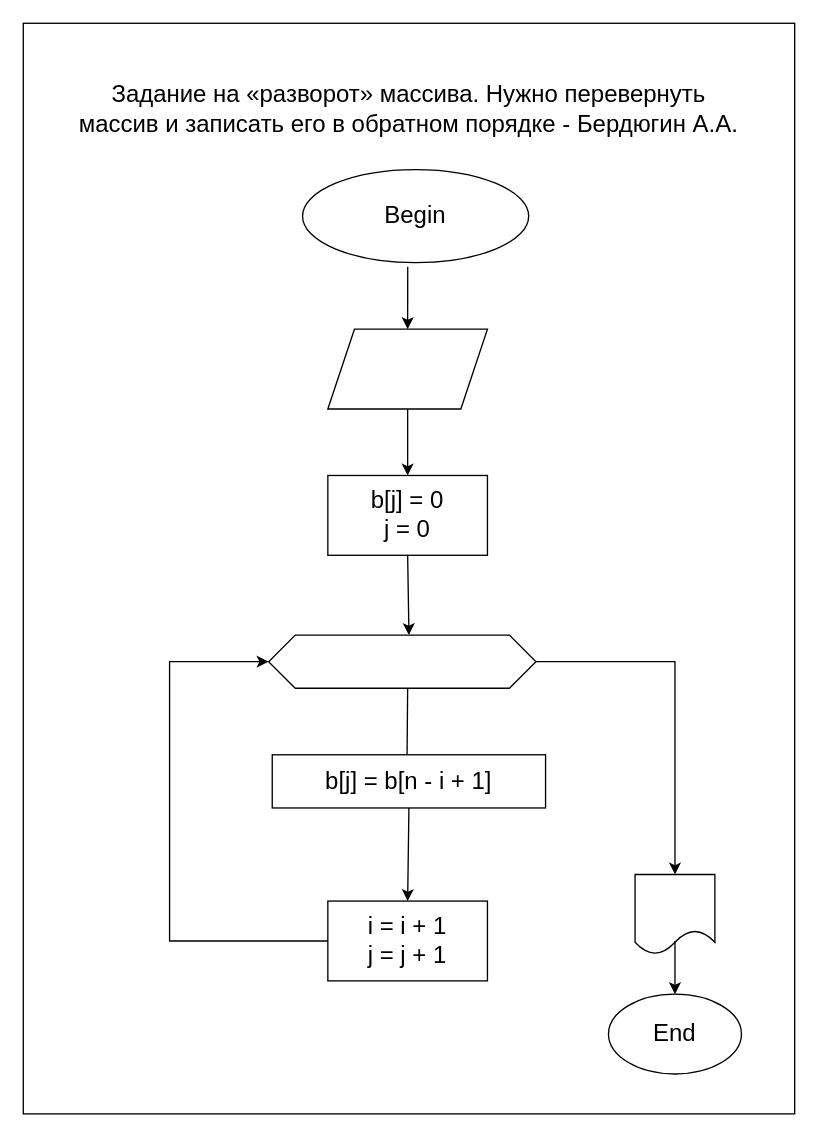
Some shapes in this 818 by 1137 pixel diagram are drawn without their labels. The shapes that lost their labels are listed below. From the top down, each one's box as (x1, y1, x2, y2) in pixels, then its label:
(327, 328, 487, 409): a[i], n
(267, 634, 536, 688): for i = 0 .. n, 1
(634, 873, 715, 954): b[j]
